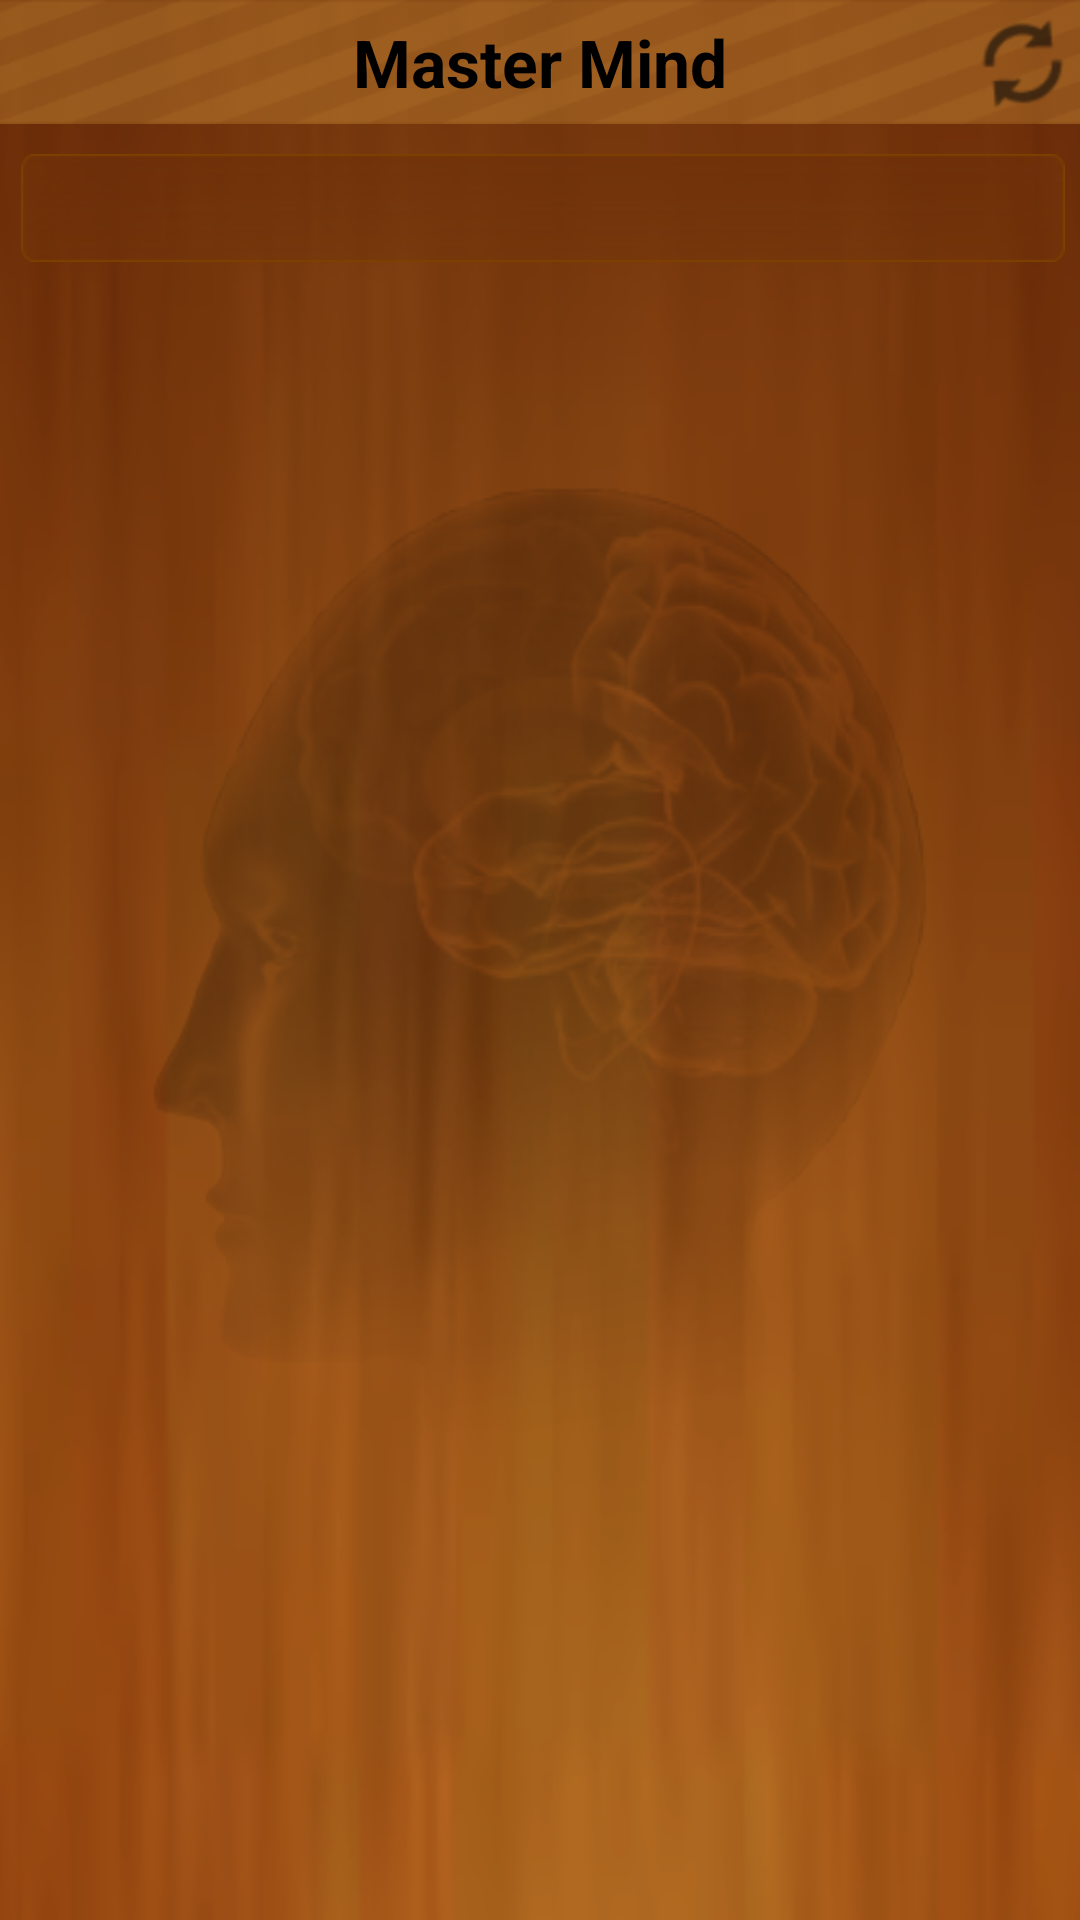

Screen size 1080px×1920px. Icon name, then its center in pixels as (x=x, y=y):
style refresh: (x=1022, y=63)
